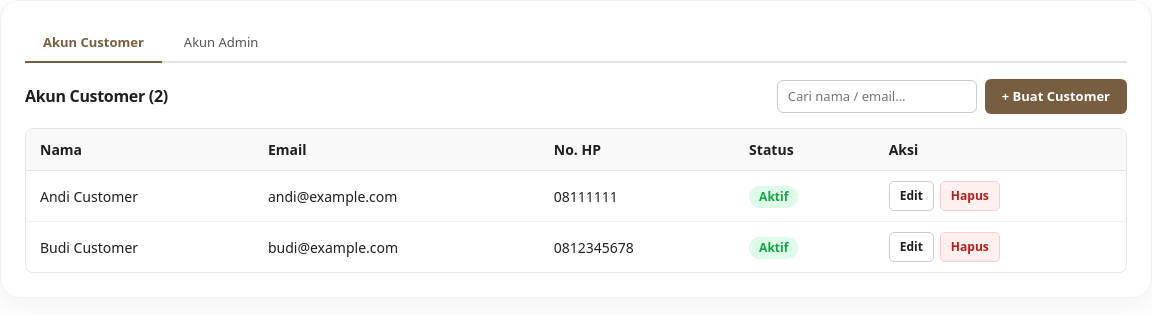
Test: AccountsSection — split customer/admin lists › switching to the Admin tab lists only admin/staff accounts
Expected: the text "Andi Customer" is shown, [26, 170, 254, 222]
Click the tab "Akun Admin" at (221,44), box [166, 25, 276, 62]
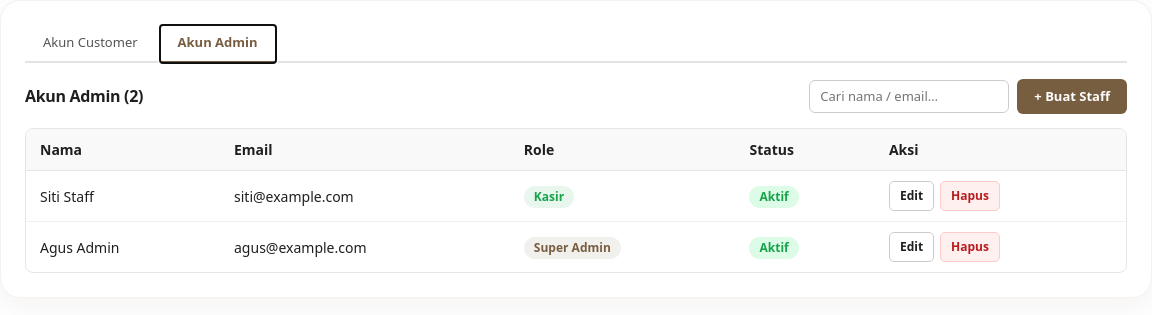
Result: the text "Siti Staff" is shown at [26, 170, 220, 222]
Result: the text "Agus Admin" is shown at [26, 222, 220, 272]
Result: the text "Andi Customer" is gone
